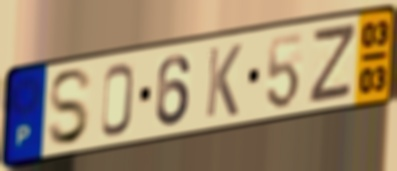0: (100, 61, 136, 140)
5: (265, 29, 305, 112)
6: (155, 53, 193, 127)
K: (203, 41, 244, 121)
S: (45, 66, 95, 149)
Z: (305, 20, 359, 107)
